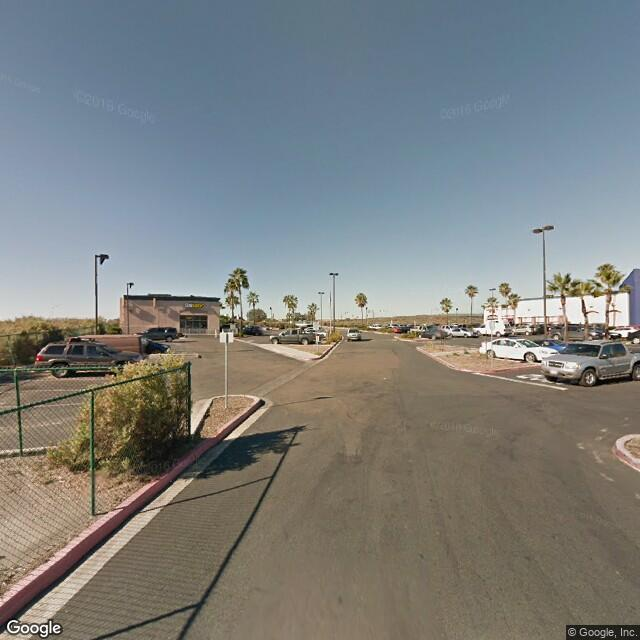litter: (5, 567, 21, 579), (57, 475, 68, 485)
